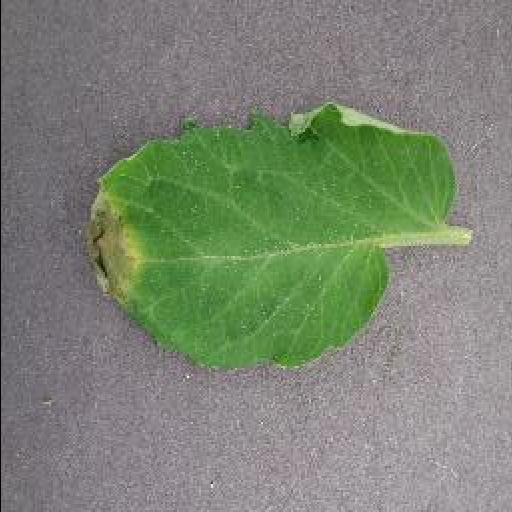disease_tomato: (86, 102, 458, 372)
